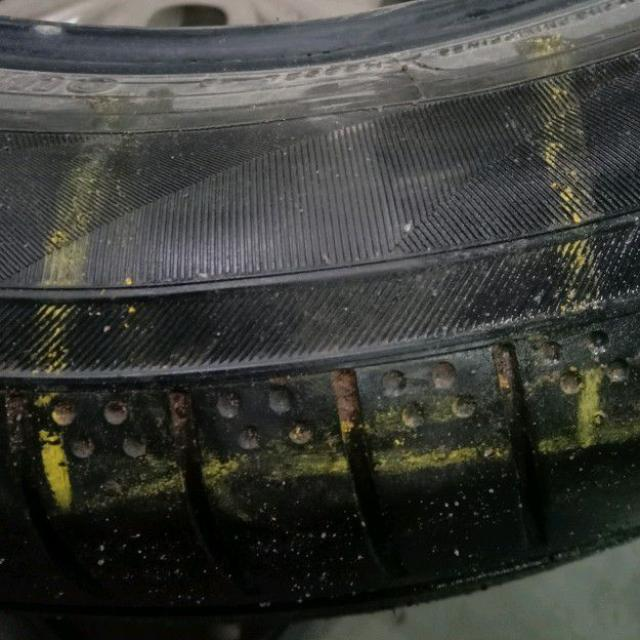Bulge: (150, 219, 337, 369)
